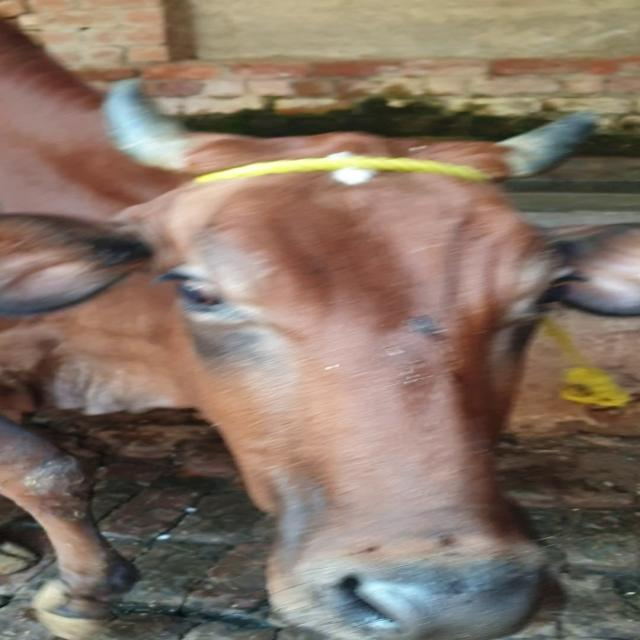cowFace: (150, 124, 596, 640)
